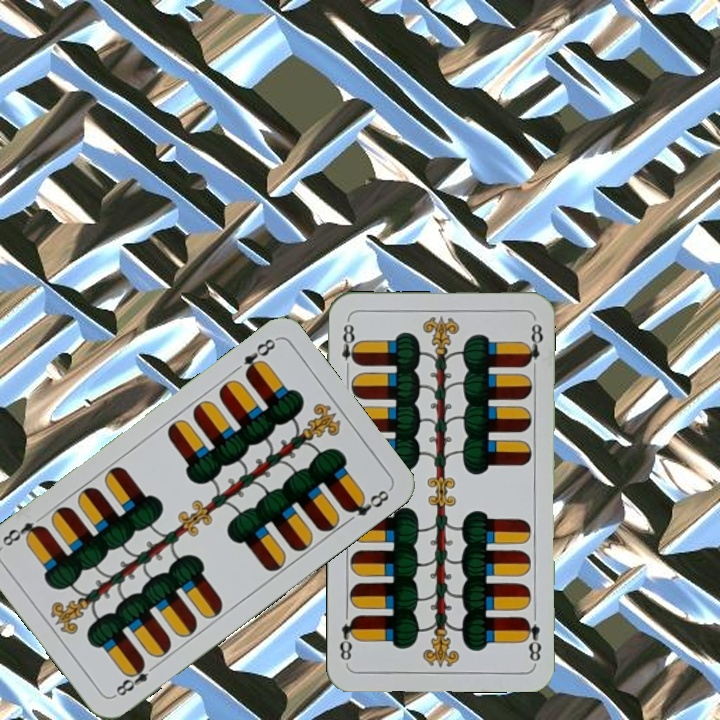E8: (110, 657, 161, 700), (239, 334, 279, 380), (338, 316, 361, 375), (519, 613, 544, 666)
